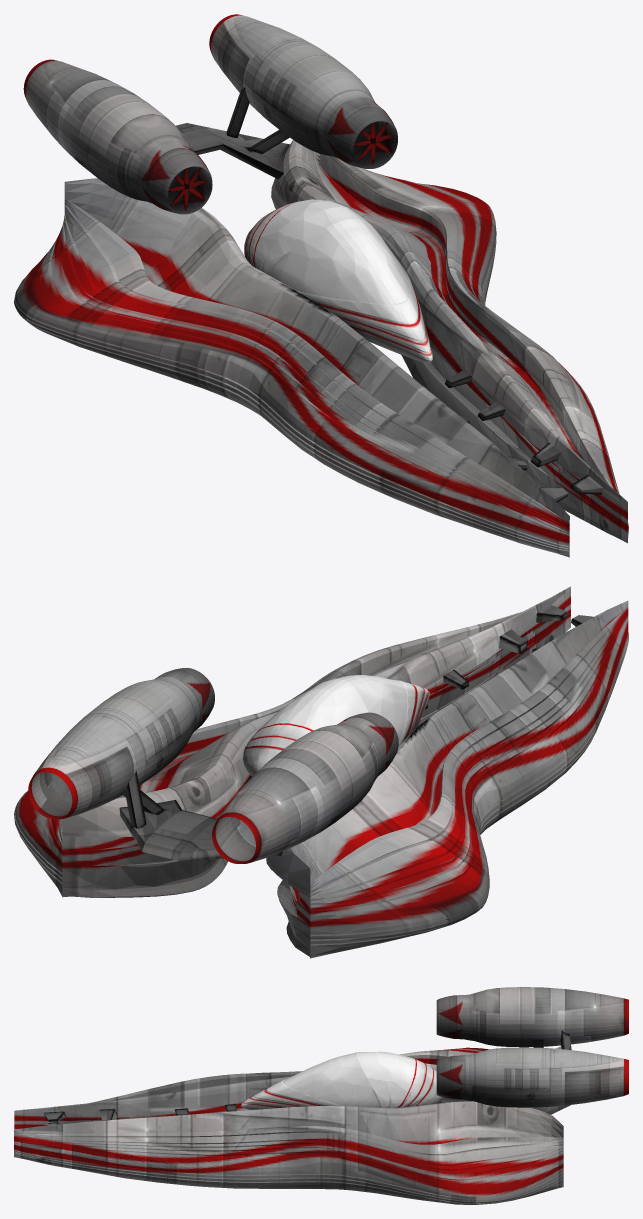
Rendered from 03ship.fbx.
3 views of the same model, one above another, from view 1: azimuth 30°, elevation 25°; view 2: azimuth 150°, elevation 25°; view 3: azimuth 270°, elevation 25° (orthographic). The views are drawn at different scales.
Visible parts, largest first — view 1: Box04; view 2: Box04; view 3: Box04.
Part boxes in pixels (x1,y1,x2,y2): Box04: [14, 14, 628, 557]; Box04: [14, 586, 628, 958]; Box04: [14, 987, 628, 1204].
Size of the model in its own units: 573 by 263 by 997.
